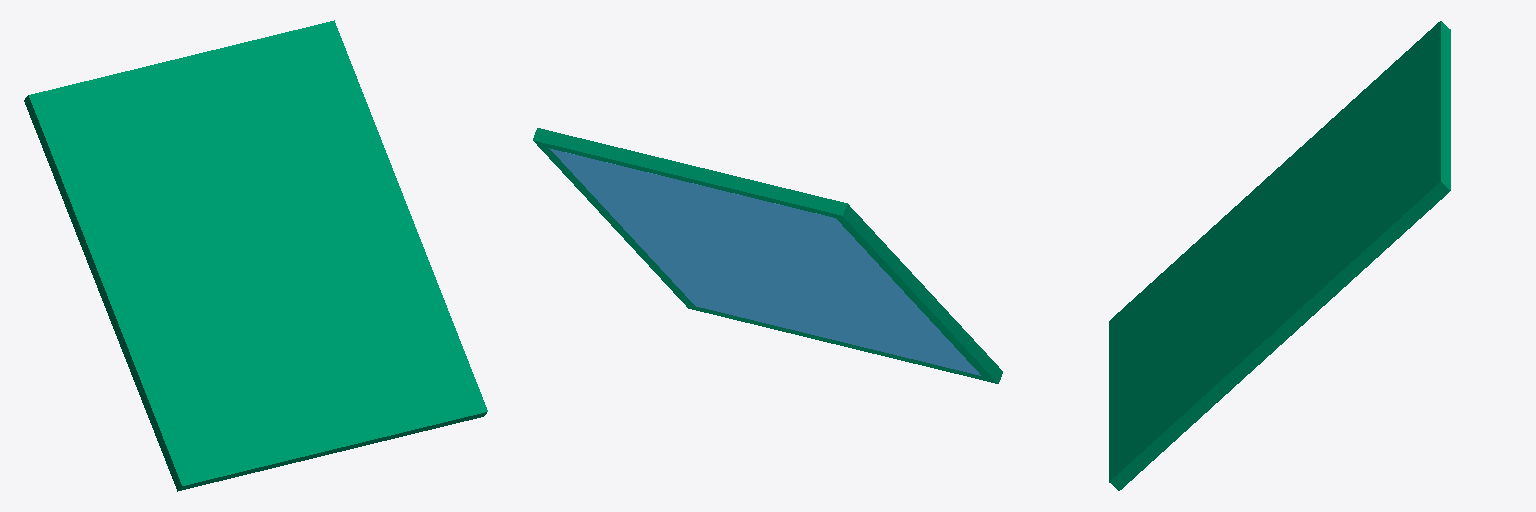
URDF robot description (panda):
<?xml version="1.0" encoding="utf-8"?>
<!-- =================================================================================== -->
<!-- |    This document was autogenerated by xacro from panda_arm_hand.urdf.xacro      | -->
<!-- |    EDITING THIS FILE BY HAND IS NOT RECOMMENDED                                 | -->
<!-- =================================================================================== -->
<robot name="panda" xmlns:xacro="http://www.ros.org/wiki/xacro">
    <link name="panda_link0">
        <visual>
            <geometry>
                <mesh filename="franka_description/meshes/visual/link0.dae"/>
            </geometry>
        </visual>
        <collision>
            <geometry>
                <mesh filename="franka_description/meshes/collision/link0.stl"/>
            </geometry>
        </collision>
    </link>
    <link name="panda_link1">
        <visual>
            <geometry>
                <mesh filename="franka_description/meshes/visual/link1.dae"/>
            </geometry>
        </visual>
        <collision>
            <geometry>
                <mesh filename="franka_description/meshes/collision/link1.stl"/>
            </geometry>
        </collision>
    </link>
    <joint name="panda_joint1" type="revolute">
        <safety_controller k_position="100.0" k_velocity="40.0" soft_lower_limit="-2.8973" soft_upper_limit="2.8973"/>
        <origin rpy="0 0 0" xyz="0 0 0.333"/>
        <parent link="panda_link0"/>
        <child link="panda_link1"/>
        <axis xyz="0 0 1"/>
        <limit effort="87" lower="-2.8973" upper="2.8973" velocity="2.1750"/>
    </joint>
    <link name="panda_link2">
        <visual>
            <geometry>
                <mesh filename="franka_description/meshes/visual/link2.dae"/>
            </geometry>
        </visual>
        <collision>
            <geometry>
                <mesh filename="franka_description/meshes/collision/link2.stl"/>
            </geometry>
        </collision>
    </link>
    <joint name="panda_joint2" type="revolute">
        <safety_controller k_position="100.0" k_velocity="40.0" soft_lower_limit="-1.7628" soft_upper_limit="1.7628"/>
        <origin rpy="-1.57079632679 0 0" xyz="0 0 0"/>
        <parent link="panda_link1"/>
        <child link="panda_link2"/>
        <axis xyz="0 0 1"/>
        <limit effort="87" lower="-1.7628" upper="1.7628" velocity="2.1750"/>
    </joint>
    <link name="panda_link3">
        <visual>
            <geometry>
                <mesh filename="franka_description/meshes/visual/link3.dae"/>
            </geometry>
        </visual>
        <collision>
            <geometry>
                <mesh filename="franka_description/meshes/collision/link3.stl"/>
            </geometry>
        </collision>
    </link>
    <joint name="panda_joint3" type="revolute">
        <safety_controller k_position="100.0" k_velocity="40.0" soft_lower_limit="-2.8973" soft_upper_limit="2.8973"/>
        <origin rpy="1.57079632679 0 0" xyz="0 -0.316 0"/>
        <parent link="panda_link2"/>
        <child link="panda_link3"/>
        <axis xyz="0 0 1"/>
        <limit effort="87" lower="-2.8973" upper="2.8973" velocity="2.1750"/>
    </joint>
    <link name="panda_link4">
        <visual>
            <geometry>
                <mesh filename="franka_description/meshes/visual/link4.dae"/>
            </geometry>
        </visual>
        <collision>
            <geometry>
                <mesh filename="franka_description/meshes/collision/link4.stl"/>
            </geometry>
        </collision>
    </link>
    <joint name="panda_joint4" type="revolute">
        <safety_controller k_position="100.0" k_velocity="40.0" soft_lower_limit="-3.0718" soft_upper_limit="-0.0698"/>
        <origin rpy="1.57079632679 0 0" xyz="0.0825 0 0"/>
        <parent link="panda_link3"/>
        <child link="panda_link4"/>
        <axis xyz="0 0 1"/>
        <limit effort="87" lower="-3.0718" upper="-0.0698" velocity="2.1750"/>
    </joint>
    <link name="panda_link5">
        <visual>
            <geometry>
                <mesh filename="franka_description/meshes/visual/link5.dae"/>
            </geometry>
        </visual>
        <collision>
            <geometry>
                <mesh filename="franka_description/meshes/collision/link5.stl"/>
            </geometry>
        </collision>
    </link>
    <joint name="panda_joint5" type="revolute">
        <safety_controller k_position="100.0" k_velocity="40.0" soft_lower_limit="-2.8973" soft_upper_limit="2.8973"/>
        <origin rpy="-1.57079632679 0 0" xyz="-0.0825 0.384 0"/>
        <parent link="panda_link4"/>
        <child link="panda_link5"/>
        <axis xyz="0 0 1"/>
        <limit effort="12" lower="-2.8973" upper="2.8973" velocity="2.6100"/>
    </joint>
    <link name="panda_link6">
        <visual>
            <geometry>
                <mesh filename="franka_description/meshes/visual/link6.dae"/>
            </geometry>
        </visual>
        <collision>
            <geometry>
                <mesh filename="franka_description/meshes/collision/link6.stl"/>
            </geometry>
        </collision>
    </link>
    <joint name="panda_joint6" type="revolute">
        <safety_controller k_position="100.0" k_velocity="40.0" soft_lower_limit="-0.0175" soft_upper_limit="3.7525"/>
        <origin rpy="1.57079632679 0 0" xyz="0 0 0"/>
        <parent link="panda_link5"/>
        <child link="panda_link6"/>
        <axis xyz="0 0 1"/>
        <limit effort="12" lower="-0.0175" upper="3.7525" velocity="2.6100"/>
    </joint>
    <link name="panda_link7">
        <visual>
            <geometry>
                <mesh filename="franka_description/meshes/visual/link7.dae"/>
            </geometry>
        </visual>
        <collision>
            <geometry>
                <mesh filename="franka_description/meshes/collision/link7.stl"/>
            </geometry>
        </collision>
    </link>
    <joint name="panda_joint7" type="revolute">
        <safety_controller k_position="100.0" k_velocity="40.0" soft_lower_limit="-2.8973" soft_upper_limit="2.8973"/>
        <origin rpy="1.57079632679 0 0" xyz="0.088 0 0"/>
        <parent link="panda_link6"/>
        <child link="panda_link7"/>
        <axis xyz="0 0 1"/>
        <limit effort="12" lower="-2.8973" upper="2.8973" velocity="2.6100"/>
    </joint>
    <link name="panda_link8"/>
    <joint name="panda_joint8" type="fixed">
        <origin rpy="0 0 0" xyz="0 0 0.107"/>
        <parent link="panda_link7"/>
        <child link="panda_link8"/>
        <axis xyz="0 0 0"/>
    </joint>
    <joint name="panda_hand_joint" type="fixed">
        <parent link="panda_link8"/>
        <child link="panda_hand"/>
        <origin rpy="0 0 -0.785398163397" xyz="0 0 0"/>
    </joint>
    <joint name="checkerboard_joint" type="fixed">
        <parent link="panda_link8"/>
        <child link="checkerboard"/>
        <origin rpy="0 0 -0.785398163397" xyz="0 0 0.01"/>
    </joint>
    <link name="checkerboard">
        <visual>
            <geometry>
                <mesh filename="checkerboard/checkerboard.dae"/>
            </geometry>
        </visual>
    </link>
    <joint name="board_joint" type="fixed">
        <parent link="panda_link8"/>
        <child link="board_base"/>
        <origin rpy="0 0 -0.785398163397" xyz="0 0 0.01"/>
    </joint>
    <link name="board_base">
        <visual>
            <geometry>
                <mesh filename="checkerboard/base.dae"/>
            </geometry>
        </visual>
    </link>
    <link name="panda_hand">
        <visual>
            <geometry>
                <mesh filename="franka_description/meshes/visual/hand.dae"/>
            </geometry>
        </visual>
        <collision>
            <geometry>
                <mesh filename="franka_description/meshes/collision/hand.stl"/>
            </geometry>
        </collision>
    </link>
    <link name="panda_leftfinger">
        <visual>
            <geometry>
                <mesh filename="franka_description/meshes/visual/finger.dae"/>
            </geometry>
        </visual>
        <collision>
            <geometry>
                <mesh filename="franka_description/meshes/collision/finger.stl"/>
            </geometry>
        </collision>
    </link>
    <link name="panda_rightfinger">
        <visual>
            <origin rpy="0 0 3.14159265359" xyz="0 0 0"/>
            <geometry>
                <mesh filename="franka_description/meshes/visual/finger.dae"/>
            </geometry>
        </visual>
        <collision>
            <origin rpy="0 0 3.14159265359" xyz="0 0 0"/>
            <geometry>
                <mesh filename="franka_description/meshes/collision/finger.stl"/>
            </geometry>
        </collision>
    </link>
    <joint name="panda_finger_joint1" type="prismatic">
        <parent link="panda_hand"/>
        <child link="panda_leftfinger"/>
        <origin rpy="0 0 0" xyz="0 0 0.0584"/>
        <axis xyz="0 1 0"/>
        <limit effort="20" lower="0.0" upper="0.04" velocity="0.2"/>
    </joint>
    <joint name="panda_finger_joint2" type="prismatic">
        <parent link="panda_hand"/>
        <child link="panda_rightfinger"/>
        <origin rpy="0 0 0" xyz="0 0 0.0584"/>
        <axis xyz="0 -1 0"/>
        <limit effort="20" lower="0.0" upper="0.04" velocity="0.2"/>
        <mimic joint="panda_finger_joint1"/>
    </joint>
</robot>

--- What the picture shows (computed from the rendered views, not written in the file) ---
Views: 3 orthographic renders of the robot side by side, from view 1: azimuth 30°, elevation 25°; view 2: azimuth 150°, elevation 25°; view 3: azimuth 270°, elevation 25°.
Model panda with 14 links and 13 joints (7 revolute, 2 prismatic, 4 fixed), rooted at panda_link0, posed all joints at 0 but 1 set to mid-range because 0 is outside their limits (panda_joint4 = -1.57).
Visible links, largest first — view 1: board_base; view 2: checkerboard, board_base; view 3: board_base.
Link boxes in pixels (x1,y1,x2,y2): board_base: (24,20,487,491); checkerboard: (549,148,980,375); board_base: (533,128,1002,383); board_base: (1109,21,1450,490).
Size in the robot's own frame: 0.052 by 0.0467 by 0.0467 metres.
Meshes: 12 distinct files referenced, 2 mesh visuals loaded (2 Collada DAE); not drawn: 11 (reference not matched to a file when rendering).